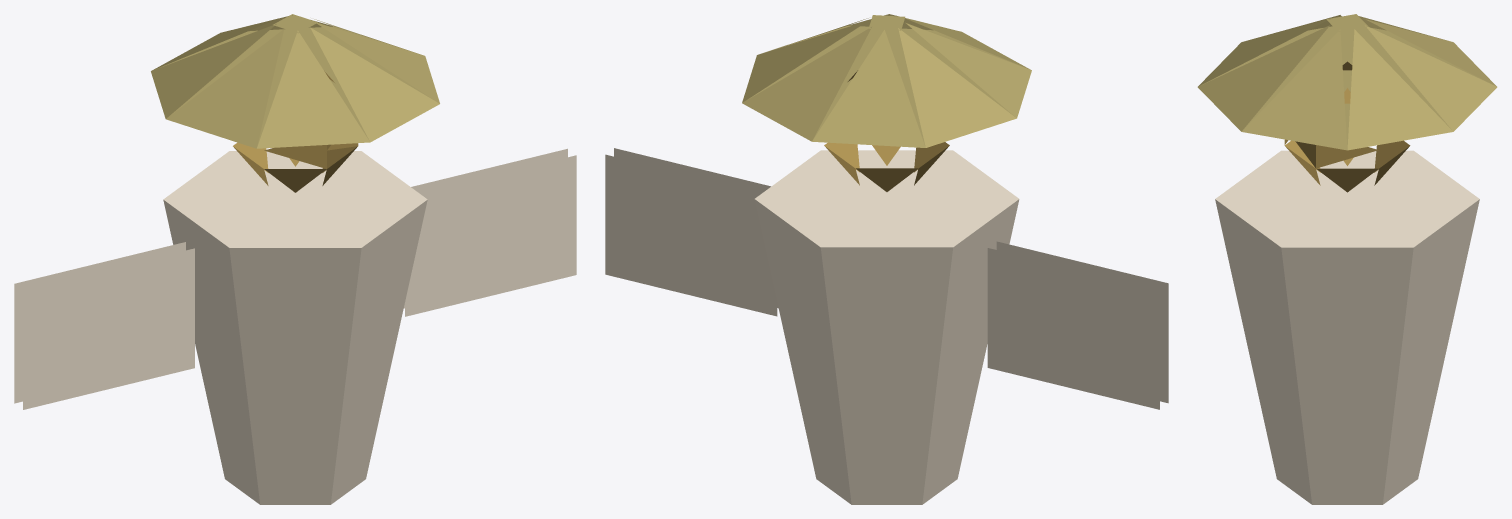
File: prop_scarecrow_lod1.glb
3 renders of one model, left to right at view 1: azimuth 30°, elevation 25°; view 2: azimuth 150°, elevation 25°; view 3: azimuth 270°, elevation 25°, orthographic.
Parts seen in each view (by area): view 1: prop_scarecrow_lod1; view 2: prop_scarecrow_lod1; view 3: prop_scarecrow_lod1.
Part boxes in pixels (<box>): prop_scarecrow_lod1: <box>14,14,576,504</box>; prop_scarecrow_lod1: <box>605,14,1168,504</box>; prop_scarecrow_lod1: <box>1197,14,1497,504</box>.
Size of the model in its own units: 1.45 by 1.14 by 0.68.
